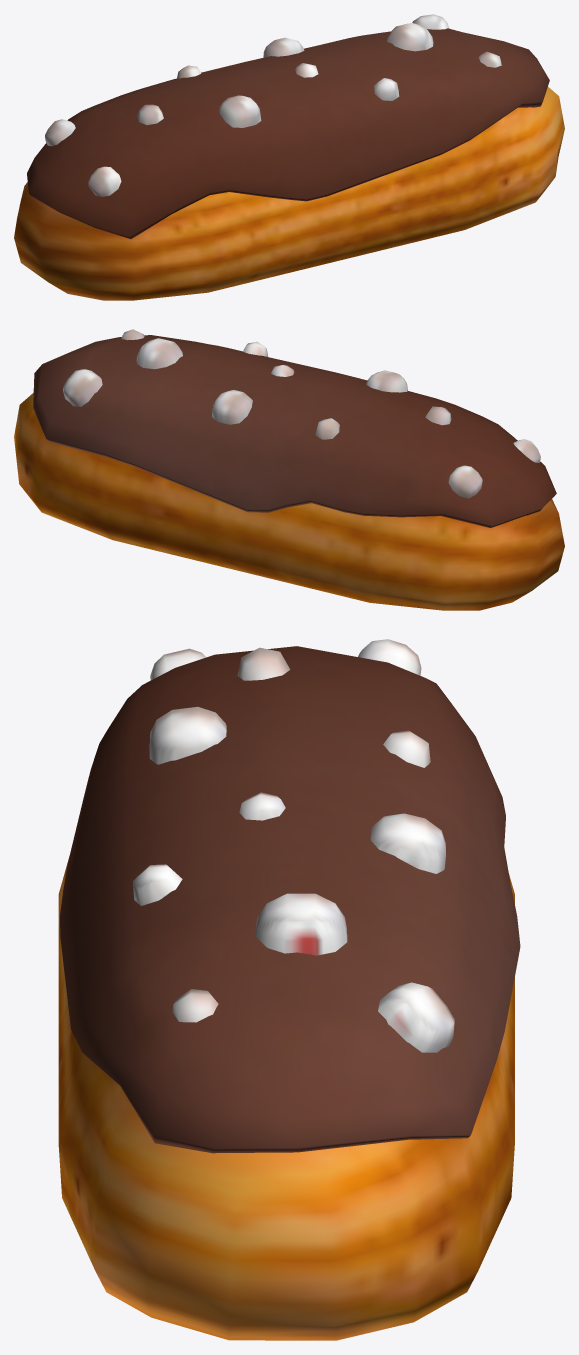
File: Eclair.fbx
The picture shows the model from 3 angles, top to bottom: view 1: azimuth 30°, elevation 25°; view 2: azimuth 150°, elevation 25°; view 3: azimuth 270°, elevation 25°; orthographic projection. The views are drawn at different scales.
Parts seen in each view (by area): view 1: Eclair; view 2: Eclair; view 3: Eclair.
Boxes of the visible parts, x1,y1,x2,y2 form: Eclair: (14, 14, 564, 300); Eclair: (14, 329, 564, 610); Eclair: (58, 639, 520, 1340).
Size of the model in its own units: 18.45 by 6.08 by 7.02.
